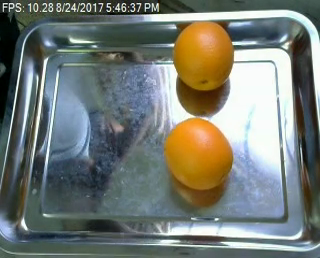Orange: (164, 116, 233, 188), (172, 21, 234, 90)
